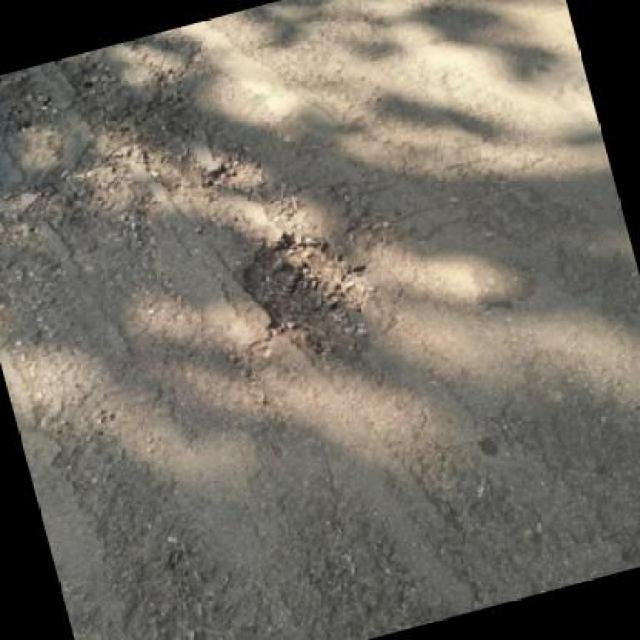pothole1: (226, 218, 388, 370)
